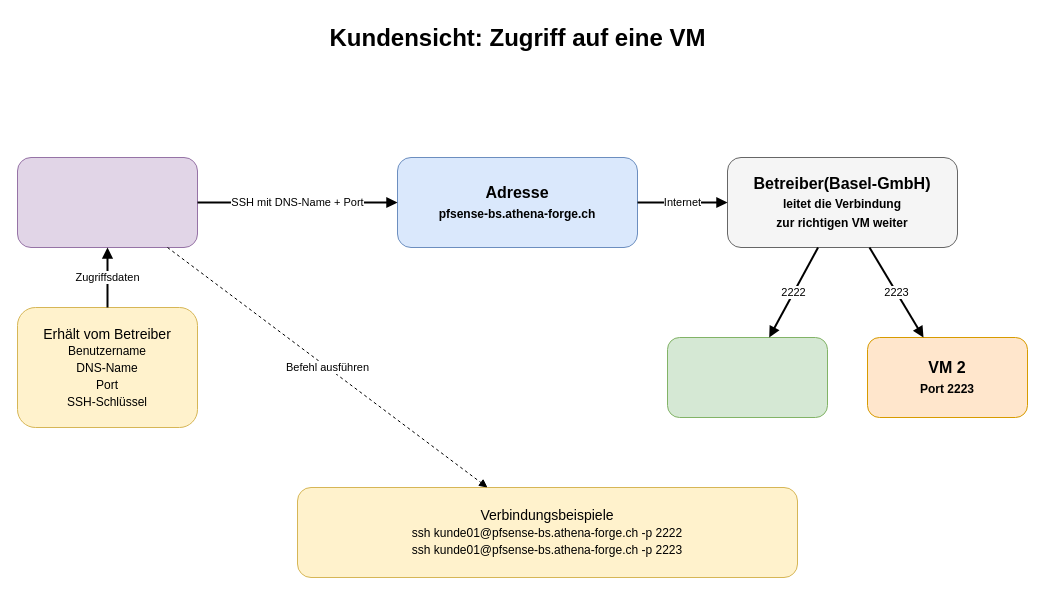
Image size: 1045x595. Some labels were removed from this diagram. Here are the shapes that lost their labels. From the top down, the centre of each, then its label:
the point at 107,202: Kunde Laptop / PC
the point at 747,377: VM 1 Port 2222
